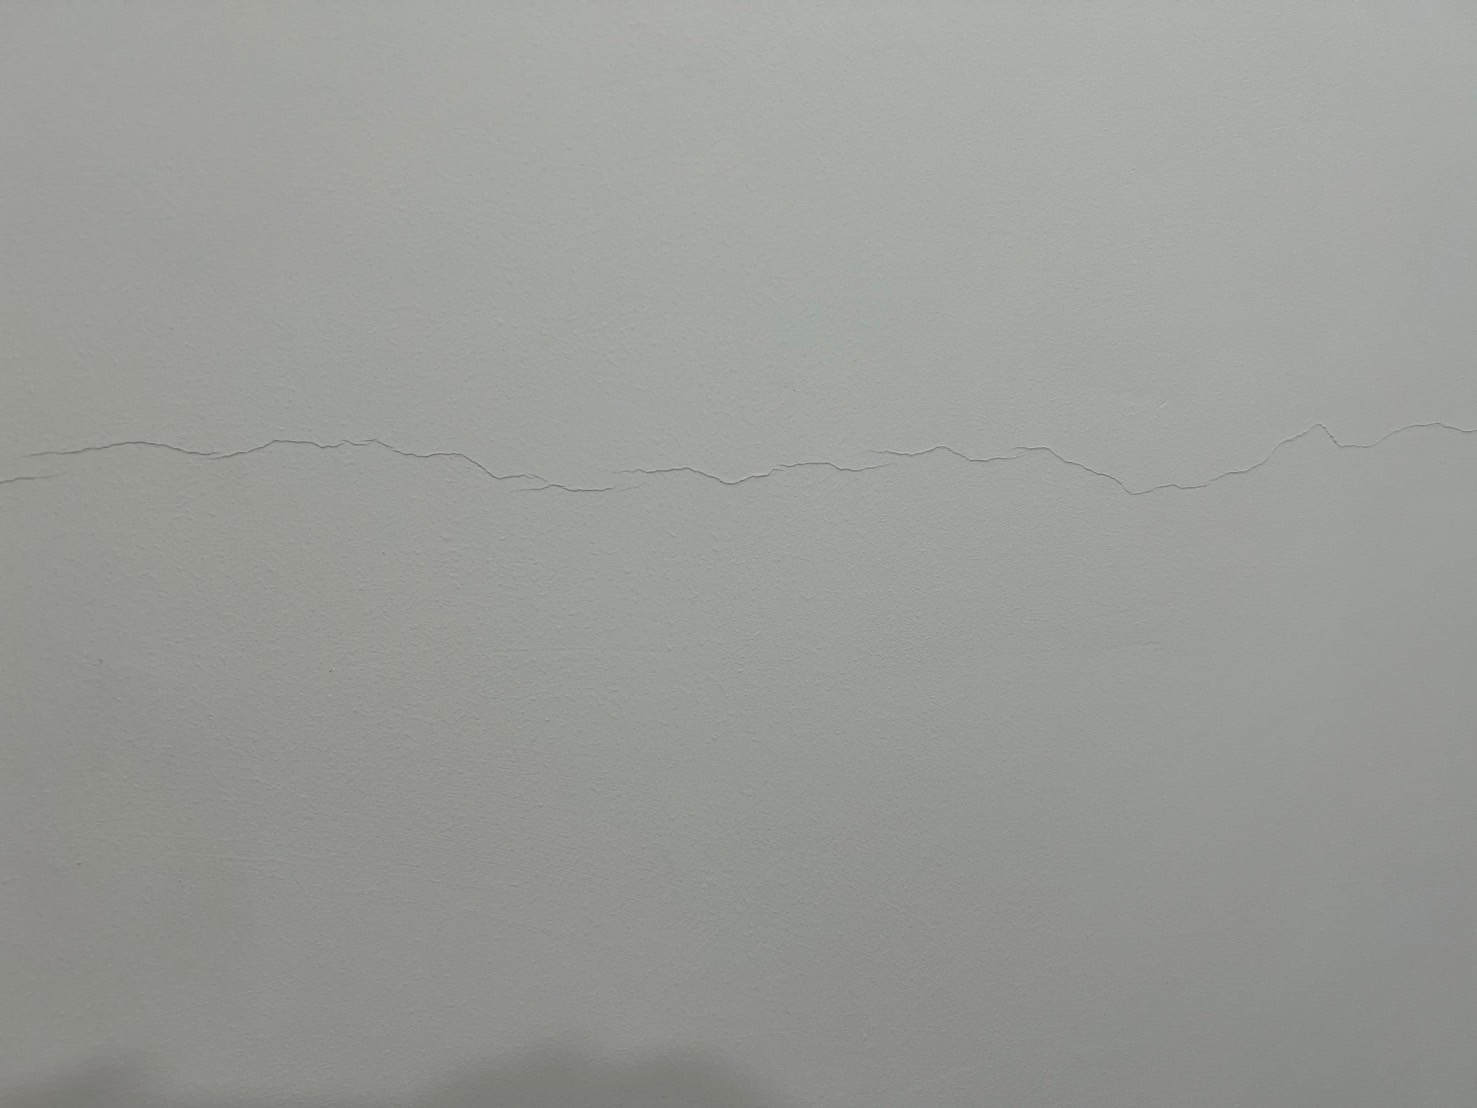Low: (10, 397, 1477, 555)
